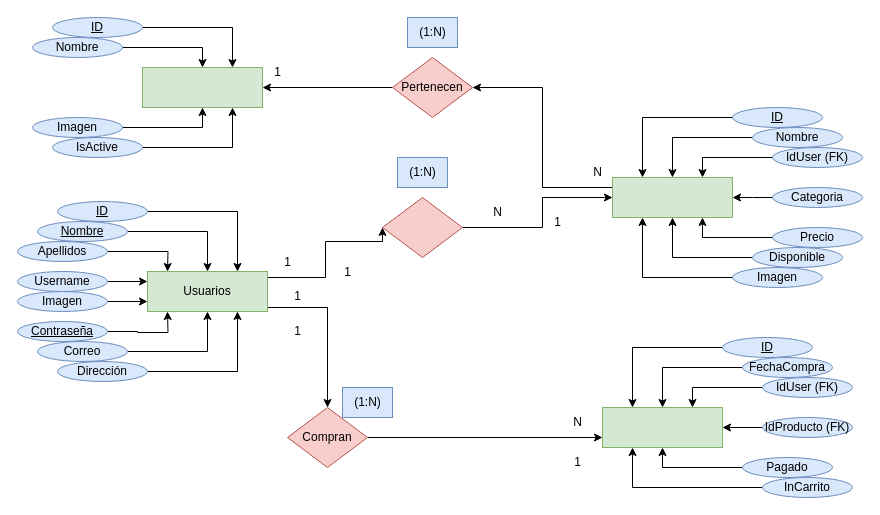
This 880x515 diagram has some shape labels left out. The shapes that lost their labels are listed below. From the top down, each one's box as (x1, y1, x2, y2) in pixels, then its label:
(142, 66, 262, 108): Categoría
(612, 176, 732, 218): Productos
(382, 196, 462, 258): Suben
(602, 406, 722, 448): Compras
